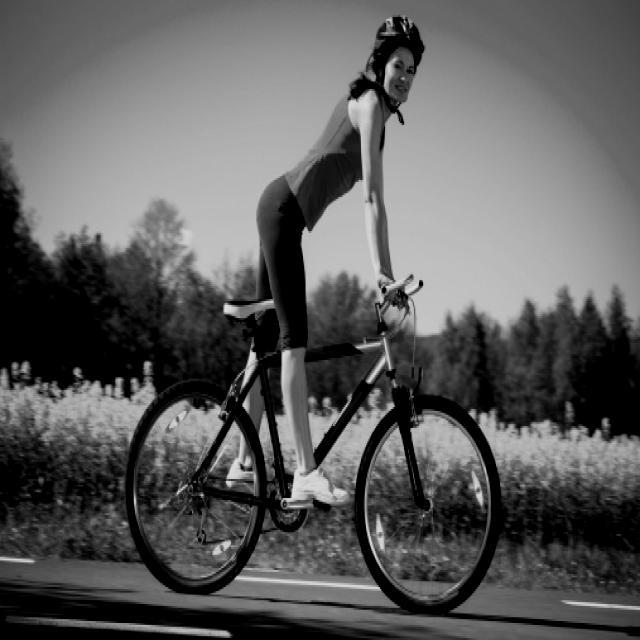Helmet: (356, 9, 438, 127)
